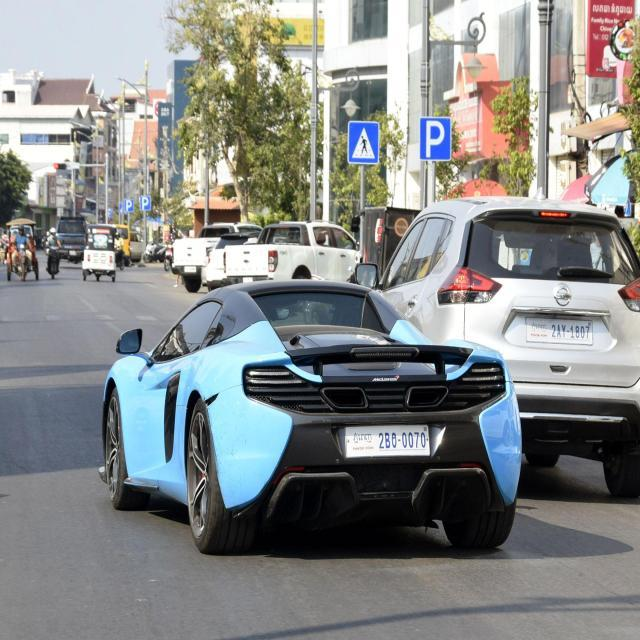Phnom_Penh: (352, 431, 374, 446)
